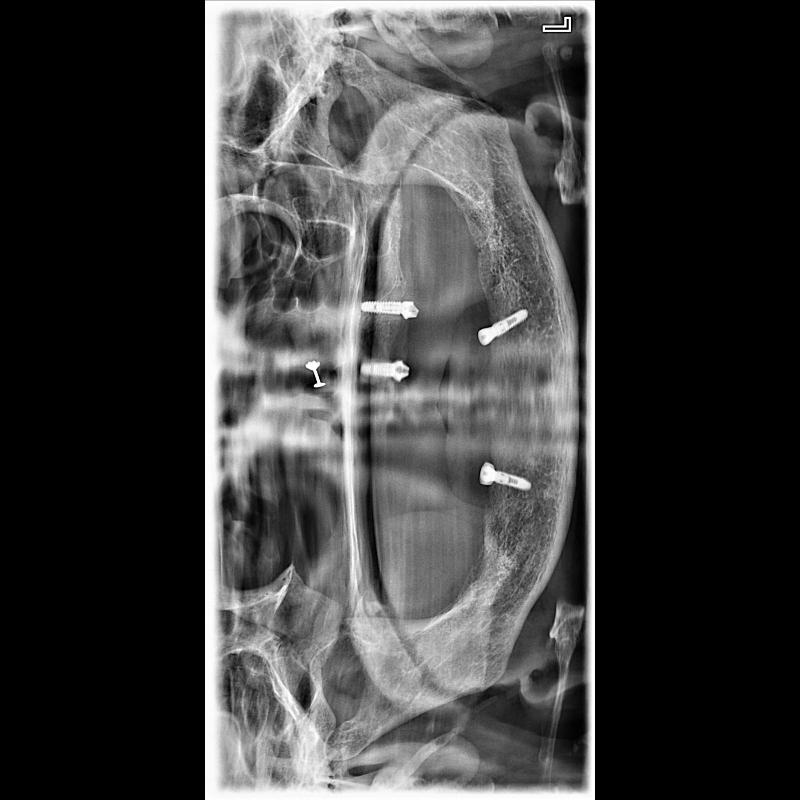osstem: (358, 294, 402, 318), (494, 468, 534, 492), (496, 308, 528, 338)
